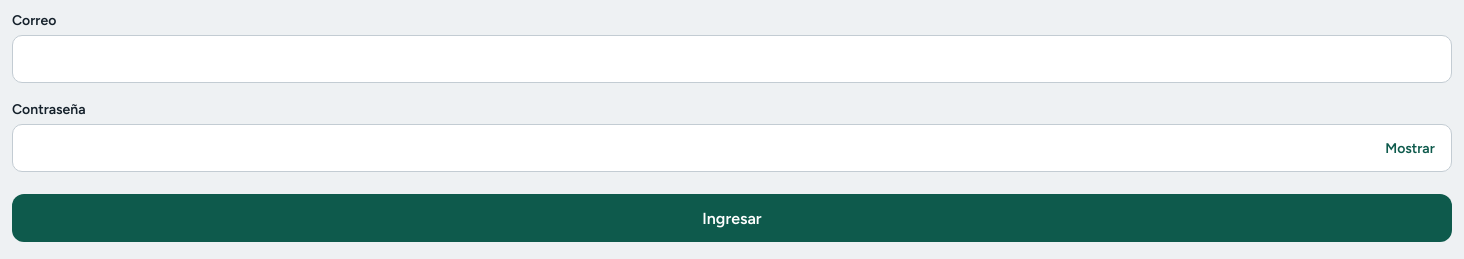
LoginForm › disables the button while the request is in flight
The width and height of the screenshot is (1464, 259).
Type "ana@example.com" into the field labelled "Correo" at {"x": 732, "y": 59}, box [12,35,1452,83]
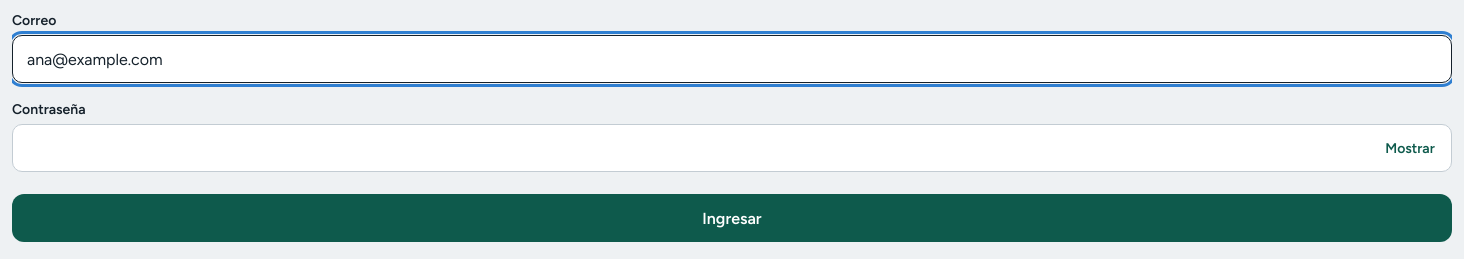
Type "contraseña-segura" into the password field labelled "Contraseña" at {"x": 732, "y": 148}, box [12,124,1452,172]
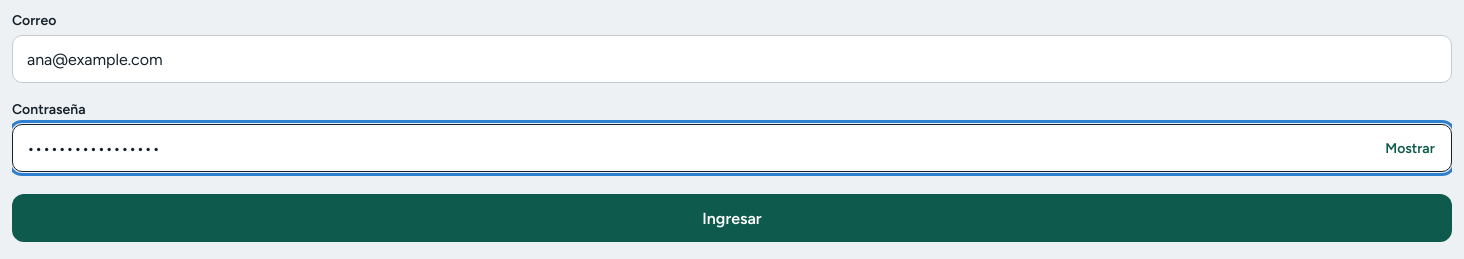
Click the button "Ingresar" at {"x": 732, "y": 218}, box [12,194,1452,242]
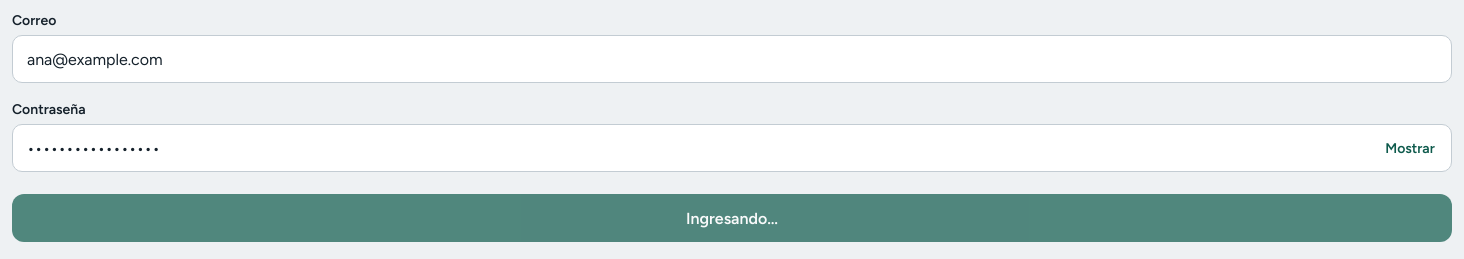
expect the button "Ingresando…" is disabled: met, box [12,194,1452,242]
